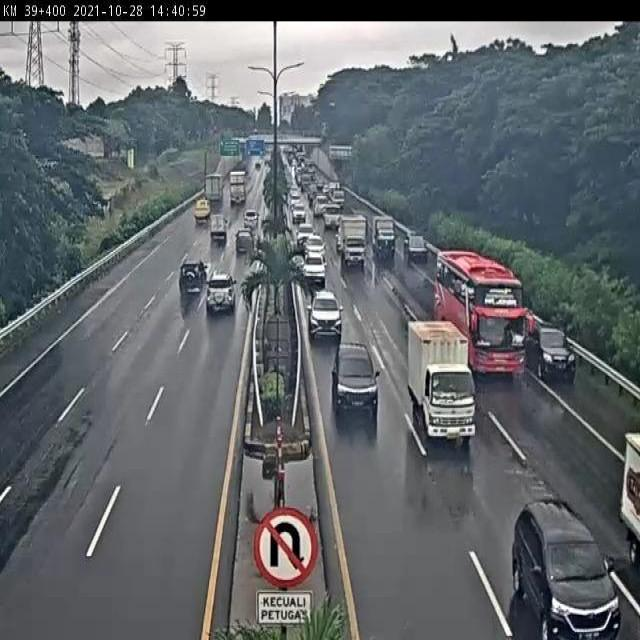bus-l-: (435, 248, 528, 377)
car: (512, 498, 624, 640), (526, 324, 579, 383), (333, 341, 377, 411), (306, 291, 344, 341), (206, 270, 237, 310), (178, 257, 208, 295), (303, 250, 327, 286)
truck-m-: (408, 320, 478, 444)
